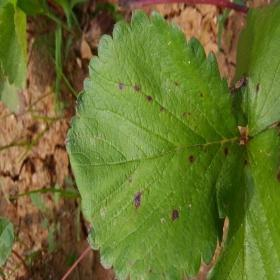Leaf Spot: (64, 9, 244, 279), (206, 127, 279, 279), (229, 0, 279, 137)
